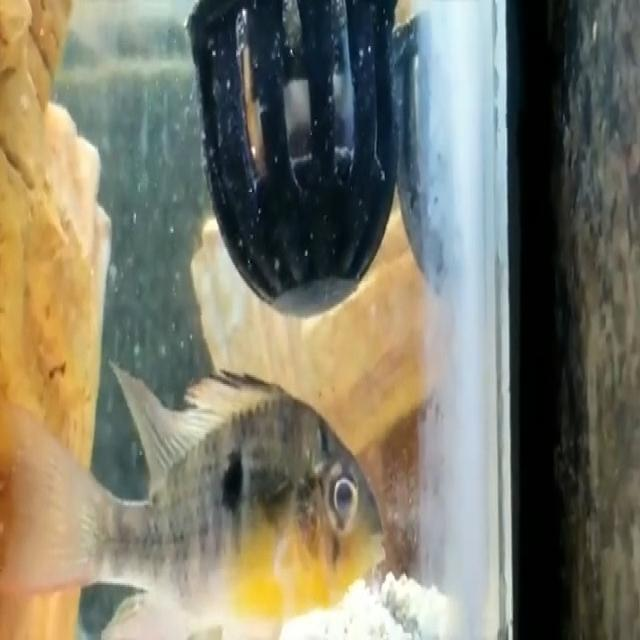fish: (3, 357, 390, 639)
